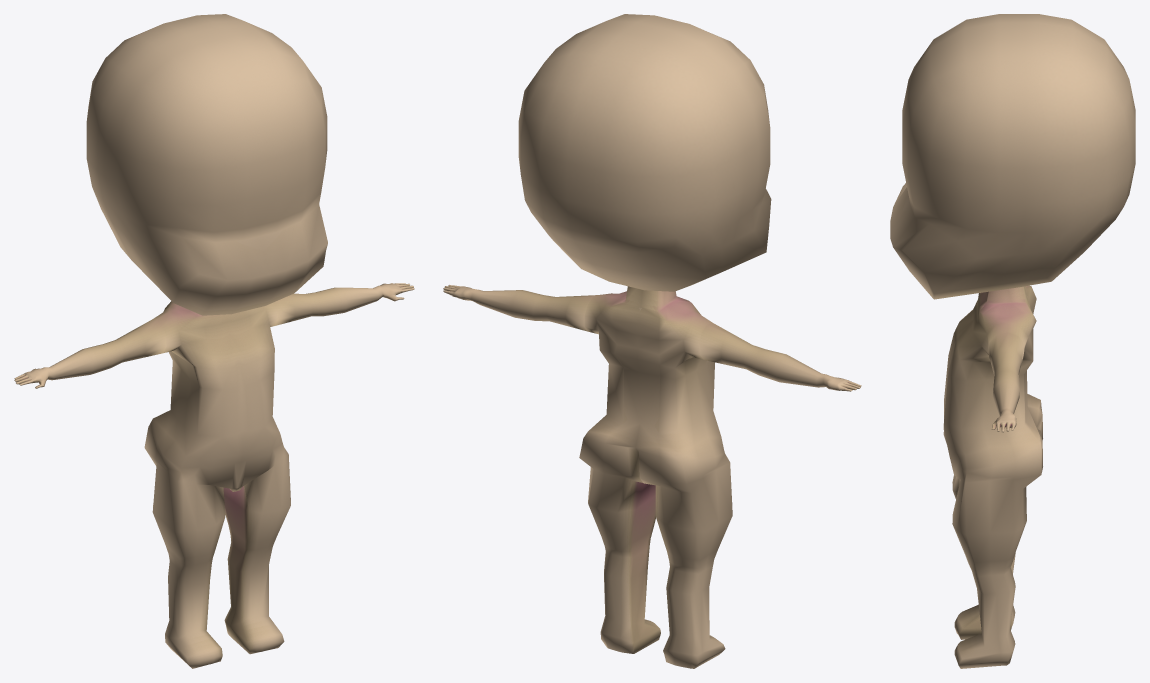
Rendered from pruba rara.fbx.
3 renders of one model, left to right at view 1: azimuth 30°, elevation 25°; view 2: azimuth 150°, elevation 25°; view 3: azimuth 270°, elevation 25°, orthographic. The views are drawn at different scales.
Visible parts, largest first — view 1: low_poly; view 2: low_poly; view 3: low_poly.
Part boxes in pixels (left/top/right/bottom): low_poly: left=14, top=14, right=414, bottom=668; low_poly: left=443, top=14, right=861, bottom=668; low_poly: left=890, top=14, right=1135, bottom=668.
Bounding box in the file's own units: 322 × 469 × 169.
